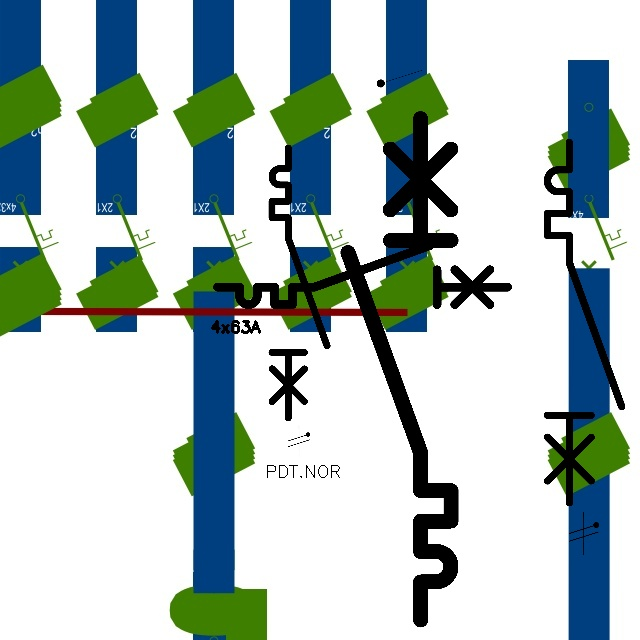interruptor_termomagnetico: (335, 105, 464, 632), (538, 133, 630, 512), (210, 238, 515, 312), (265, 141, 334, 424)
